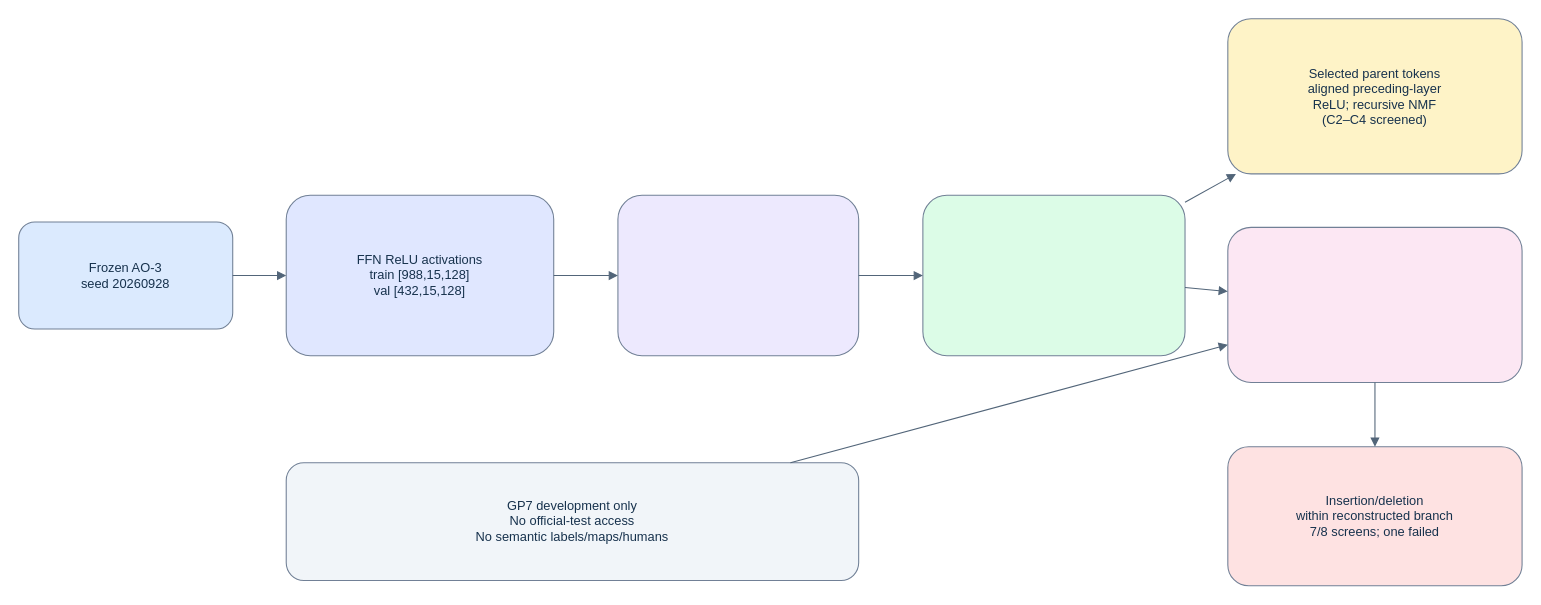
This 1541x605 diagram has some shape labels left out. The centre of each missing label's shape, as x and y in pixels:
"Concept coefficients per window × time C1–C4 numeric only" goes at pixel 1053 275.
"Independent amplitude interventions on selected FFN branch; 4 scalar outputs" goes at pixel 1374 304.
"Rank-4 NMF bank W≥0, H≥0 train-only fit" goes at pixel 738 275.
